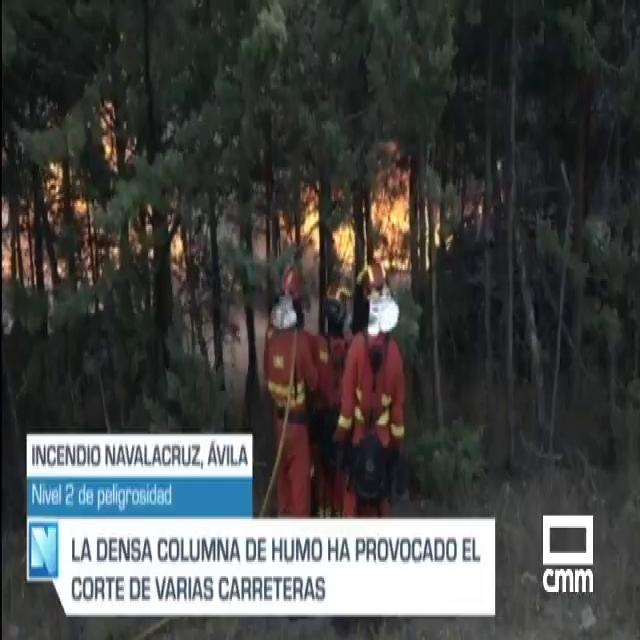Fire: (290, 160, 422, 286)
